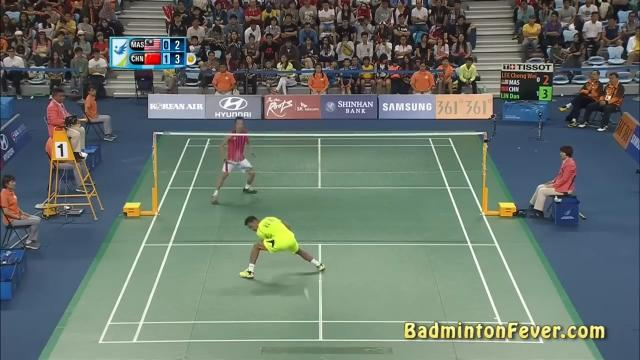Shuttlecock: (303, 287, 313, 297)
